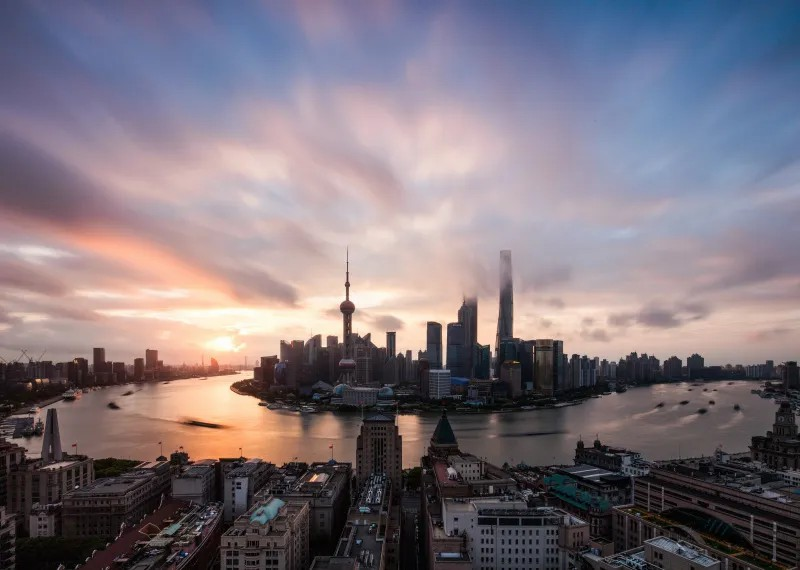Oriental: (336, 245, 359, 387)
